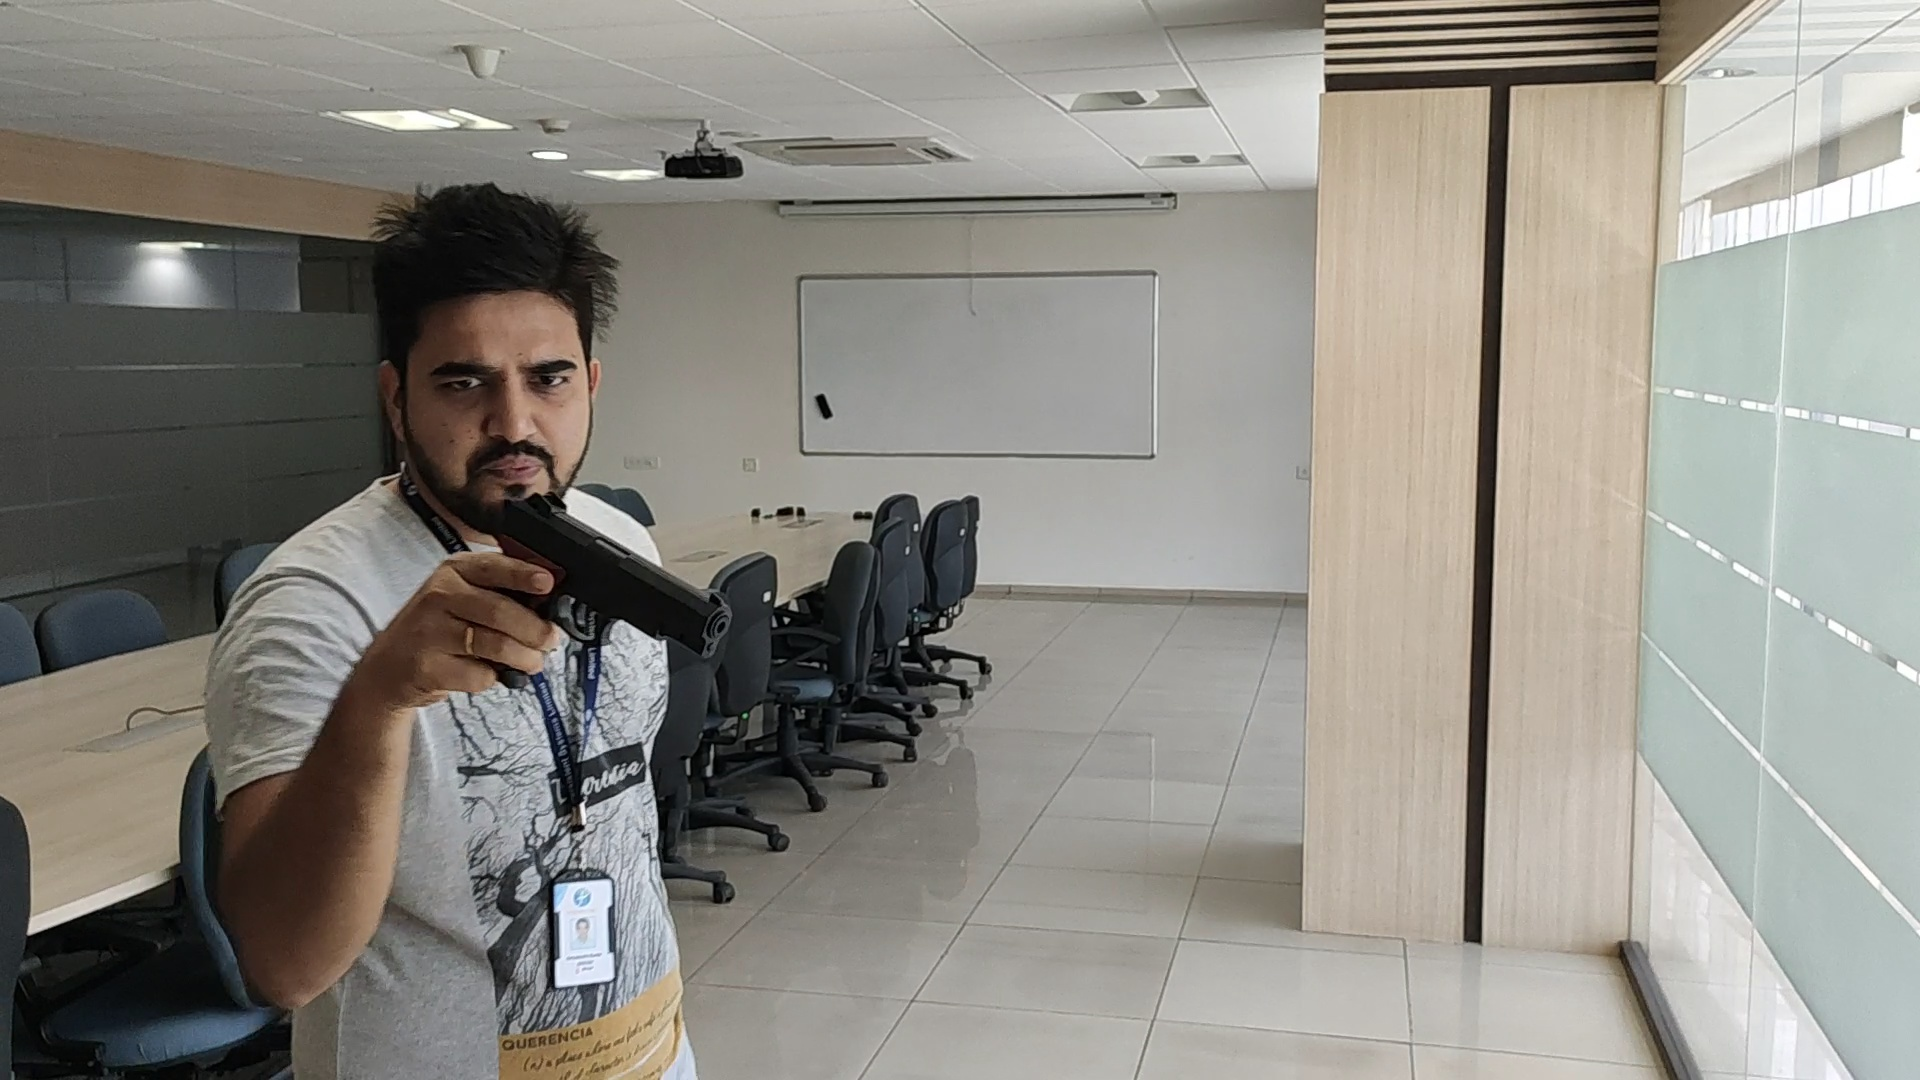gun: (493, 492, 644, 556)
